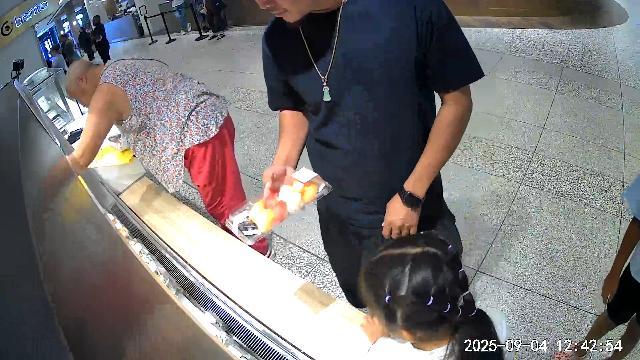sushi-box: (224, 167, 333, 247)
